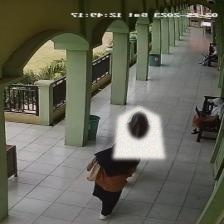Mukena: (112, 105, 165, 159)
